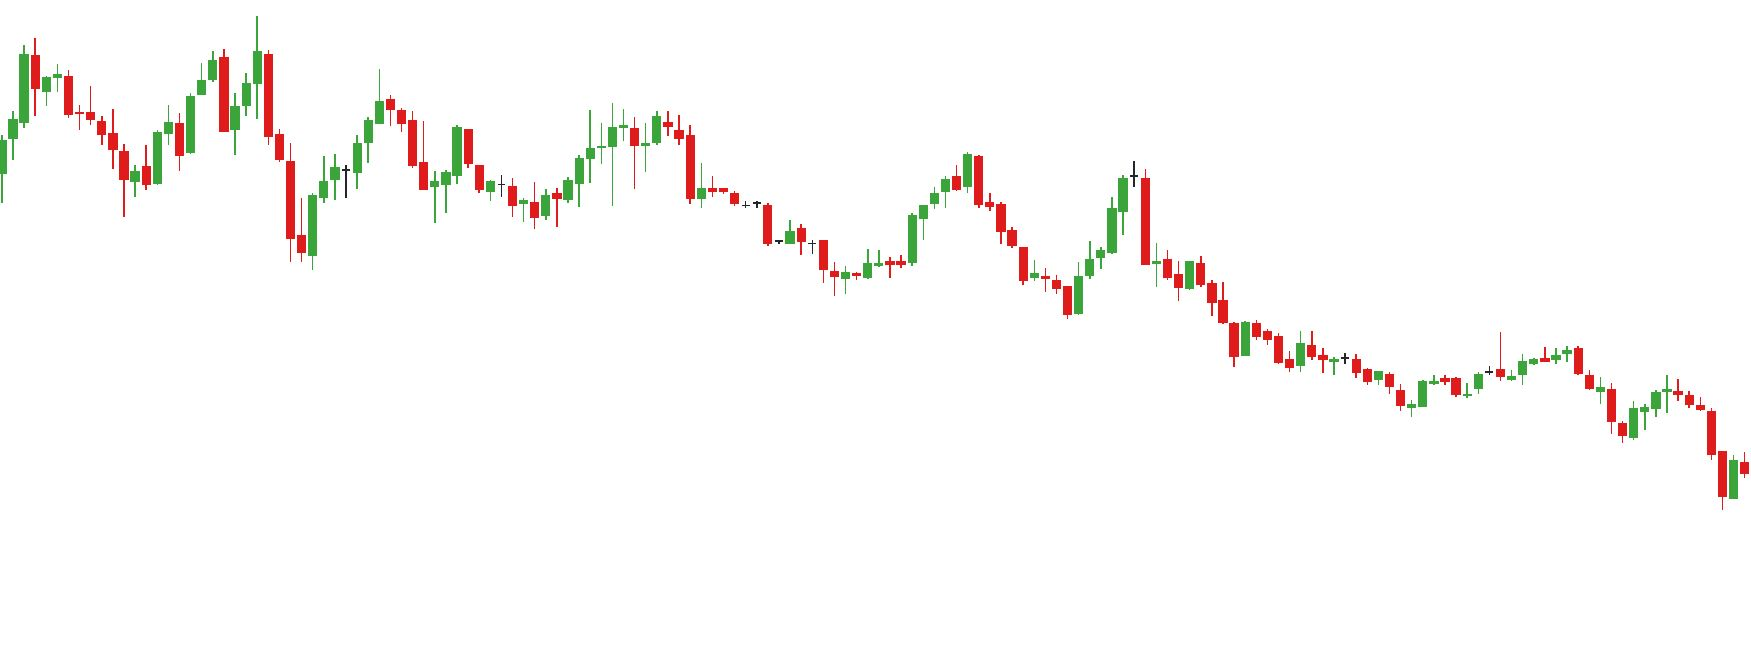sell: (451, 104, 641, 179), (208, 12, 275, 118)
